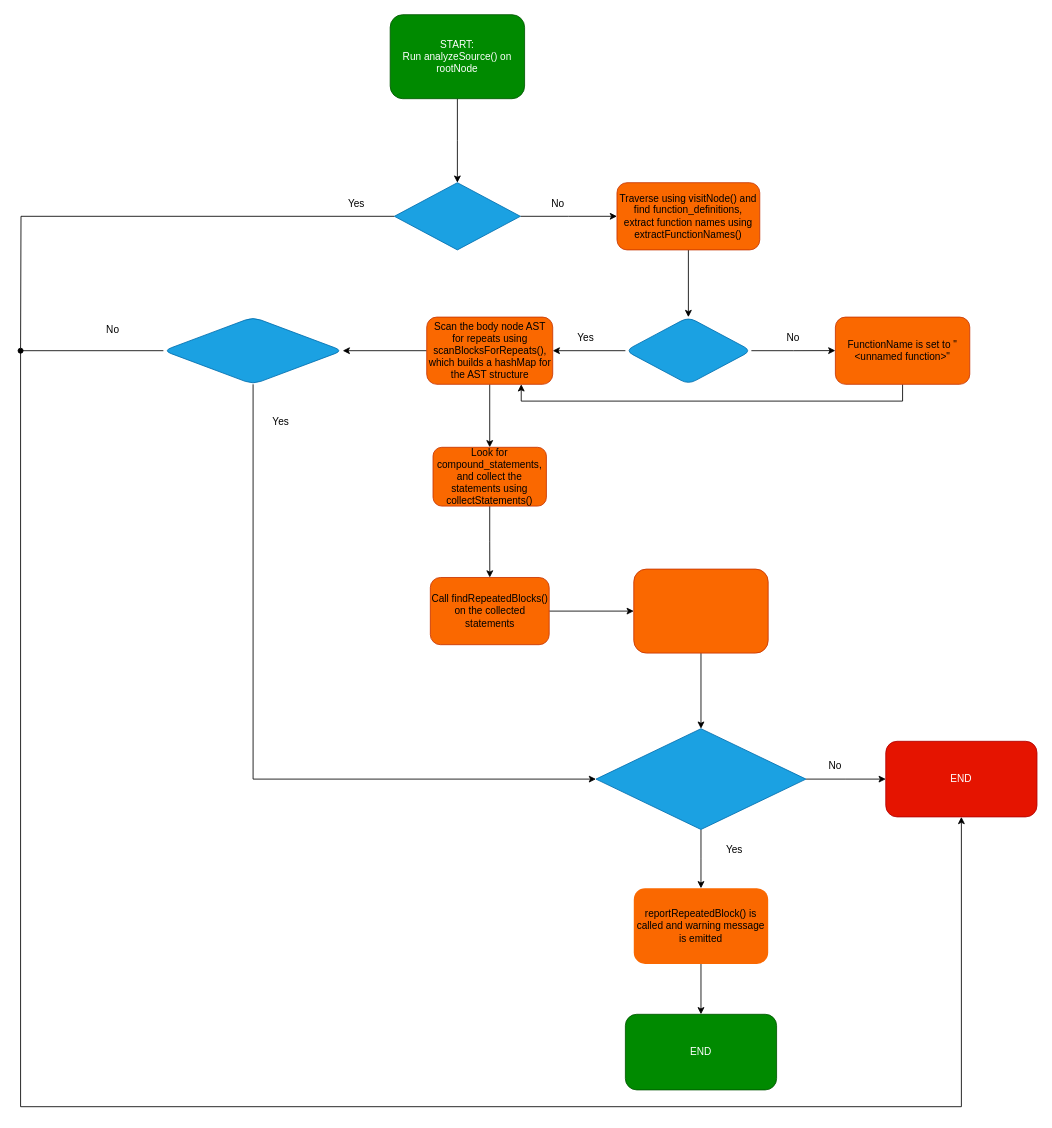
This 1052x1128 diagram has some shape labels left out. Here are the shapes that lost their labels. From the top down, the centre of each, then its label:
point (457, 216): is rootNode null?
point (253, 350): Do two ASTs have the same structure in the hashMap?
point (688, 350): Is the function named?
point (700, 610): In findRepeatedBlocks(), build a hashMap for the statements
point (700, 779): Do two blocks have the same arrangement of statements?
